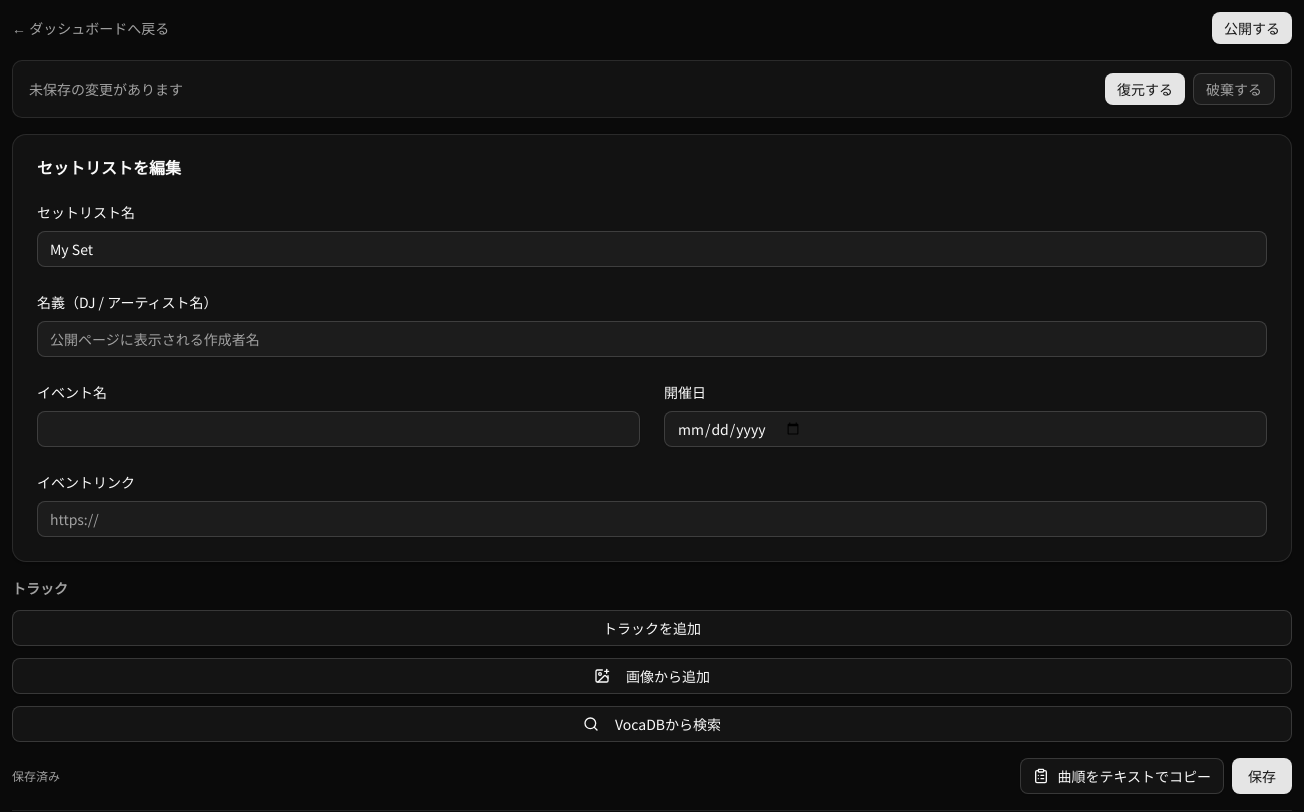
Test: SetlistEditor 未保存の下書き › throws the draft away when the DJ discards it
expect the text "未保存の変更があります" is shown: met, box [29,79,183,99]
Click the button "破棄する" at (1234, 89), box [1193,73,1275,105]
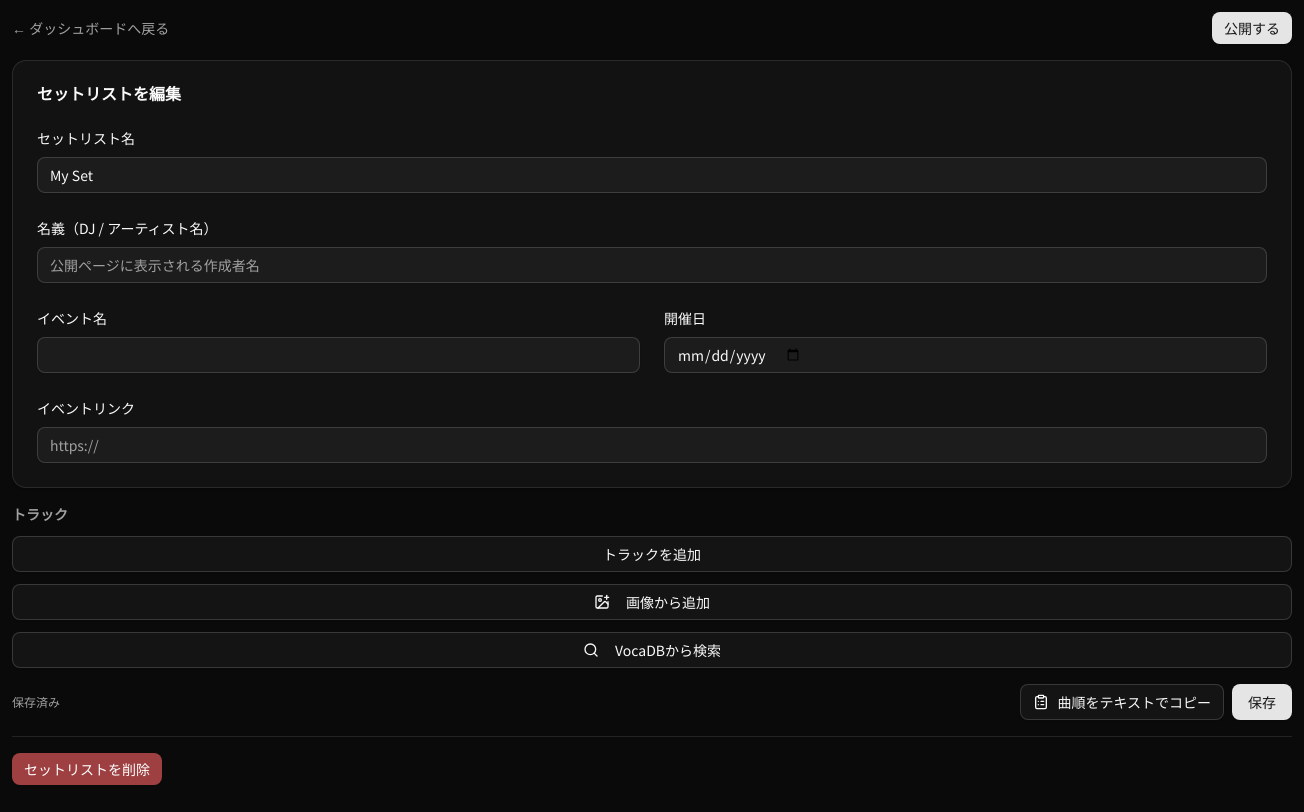
expect the field labelled "セットリスト名" holds "My Set": met, box [37,157,1267,193]
expect the text "未保存の変更があります" is gone: met
